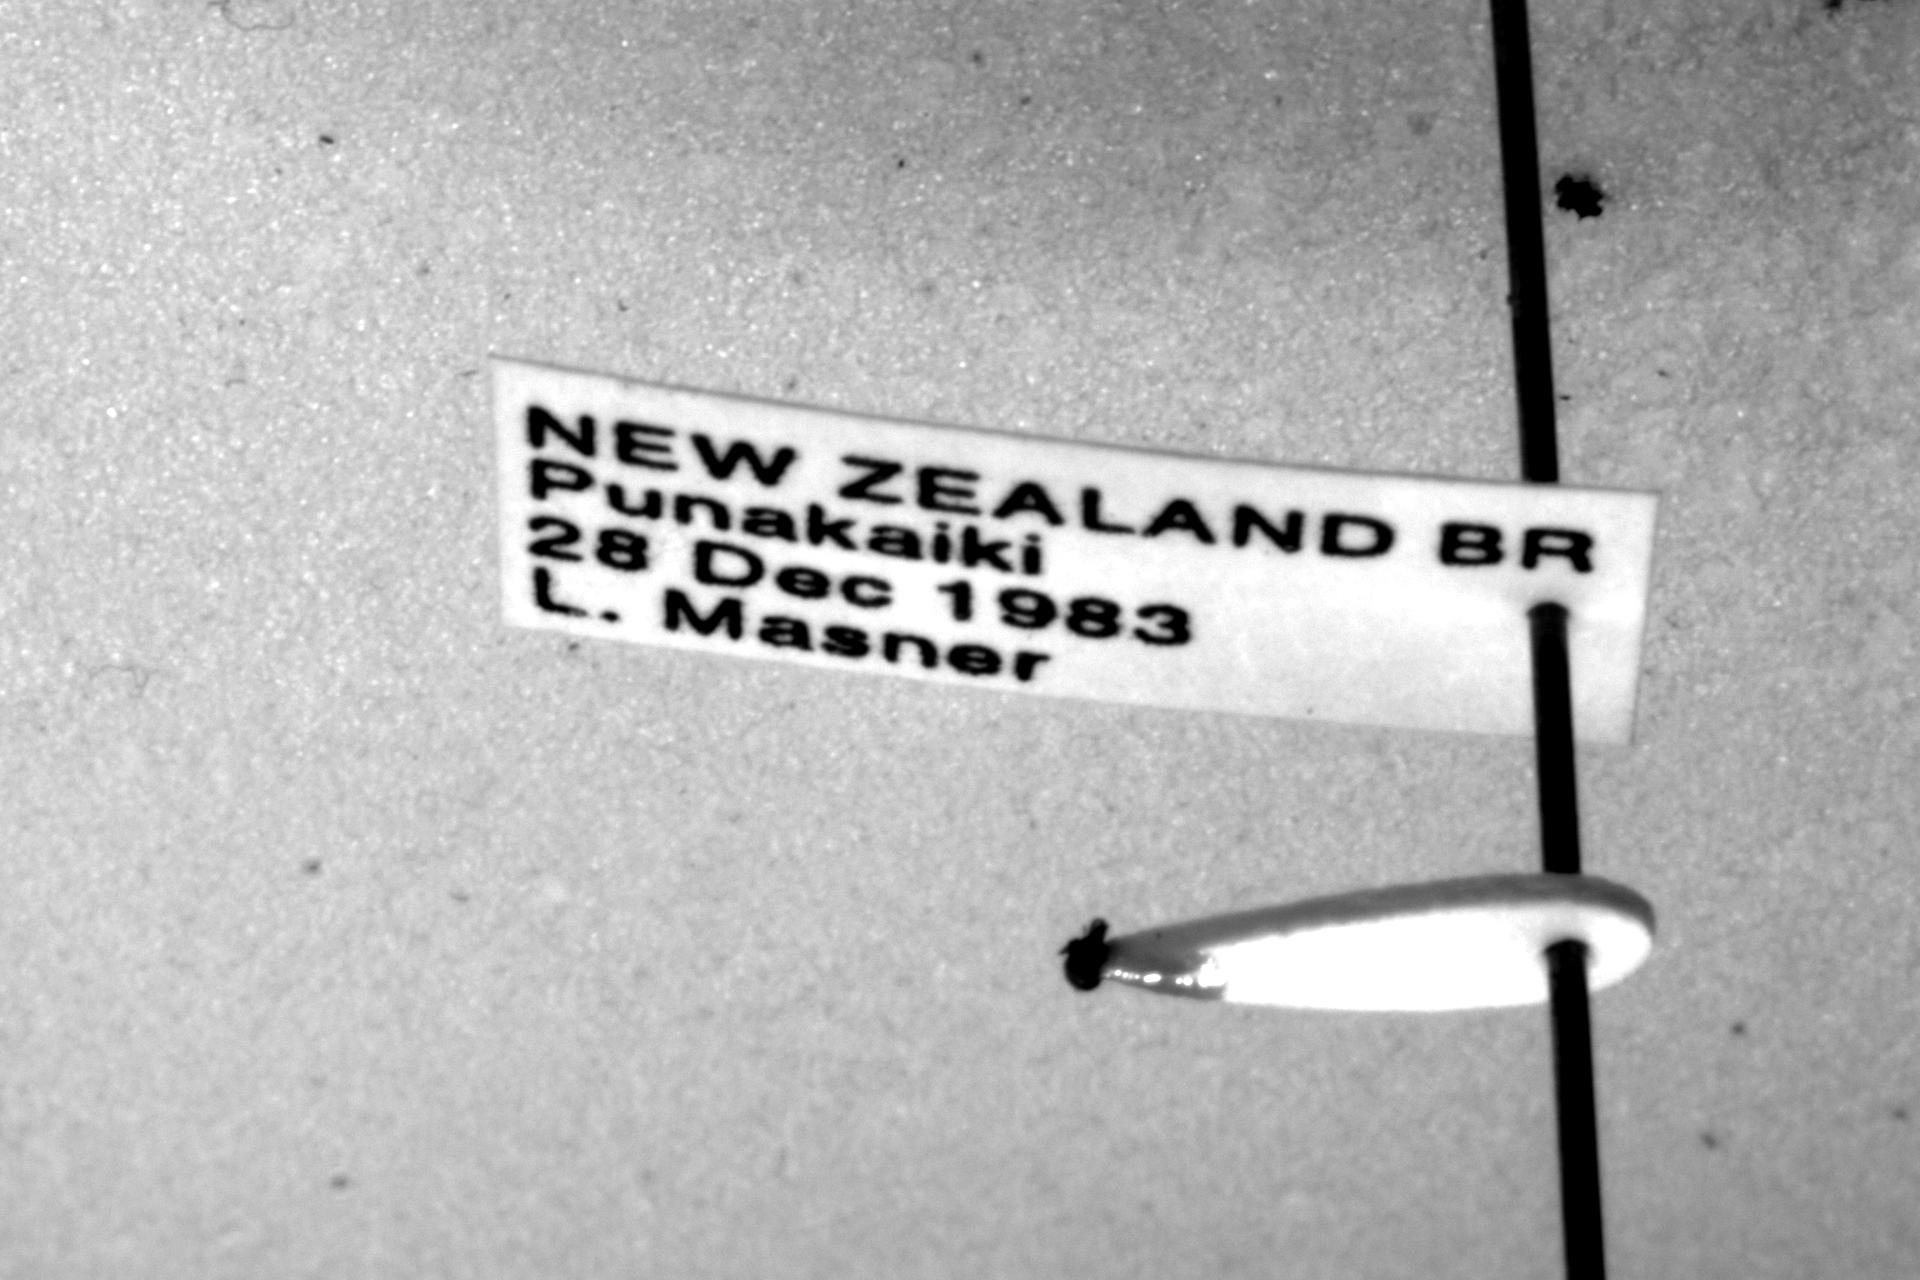typed_label: (491, 360, 1657, 743)
